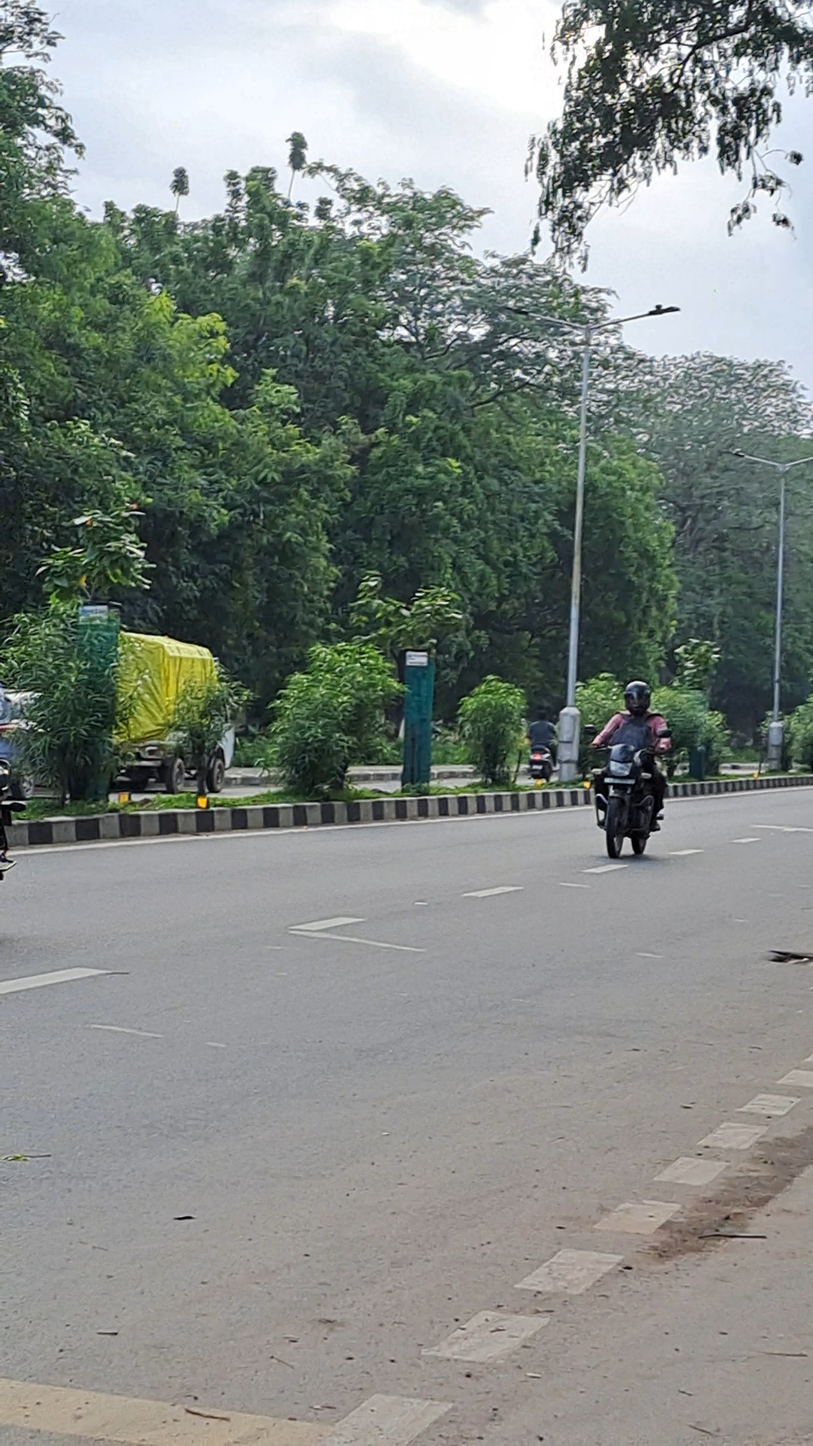BikeWithRider: (580, 677, 677, 868), (520, 706, 560, 787)
Helmet: (618, 677, 659, 717)
